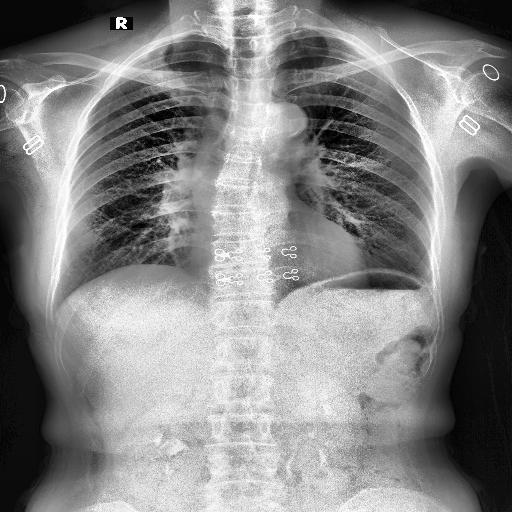0- Aortic enlargement: (186, 102, 314, 204), (253, 100, 311, 146), (255, 102, 307, 152)
13- Pulmonary fibrosis: (314, 116, 336, 146)
2- Calcification: (289, 117, 303, 137)
